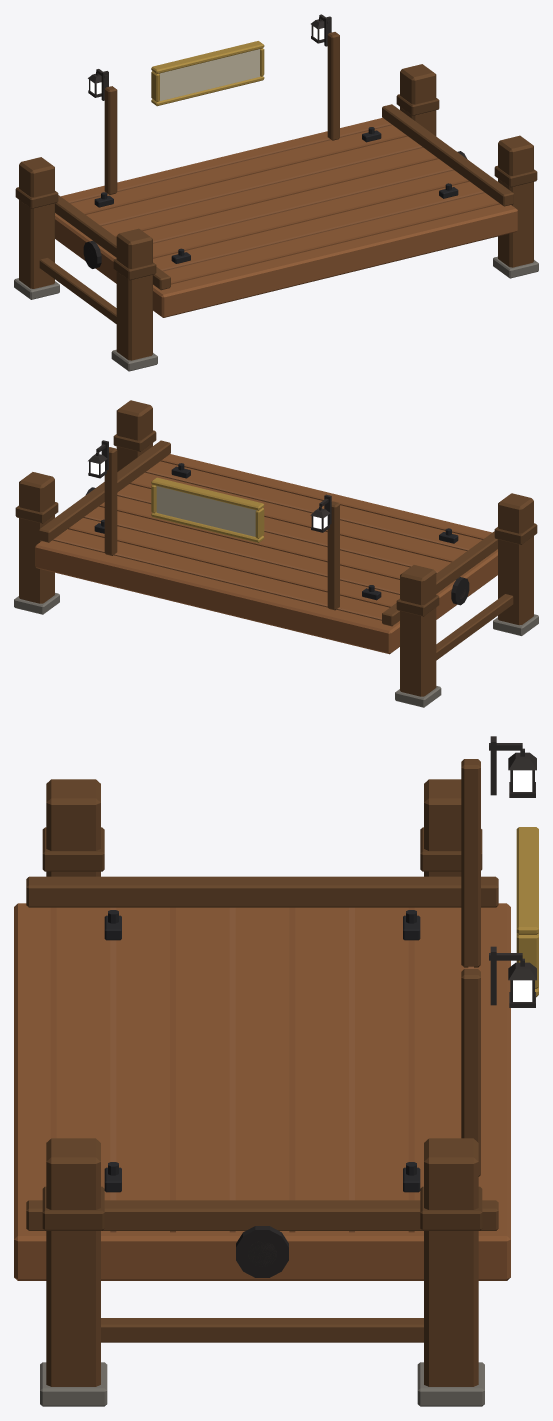
File: FerryDock.glb
3 renders of one model, top to bottom at view 1: azimuth 30°, elevation 25°; view 2: azimuth 150°, elevation 25°; view 3: azimuth 270°, elevation 25°, orthographic. The views are drawn at different scales.
Parts seen in each view (by area): view 1: Deck, Body, Sign; view 2: Deck, Body, Sign; view 3: Deck, Body, Glow.
Boxes of the visible parts, x1,y1,x2,y2 form: Deck: (55,117,517,317); Body: (14,14,538,371); Sign: (159,49,259,100); Deck: (35,454,497,654); Body: (14,400,538,707); Sign: (156,486,256,536); Deck: (14,903,510,1280); Body: (26,736,538,1406); Glow: (513,770,532,1001).
Size of what is drawn, in the model's own units: 18.45 by 8.26 by 10.57.
